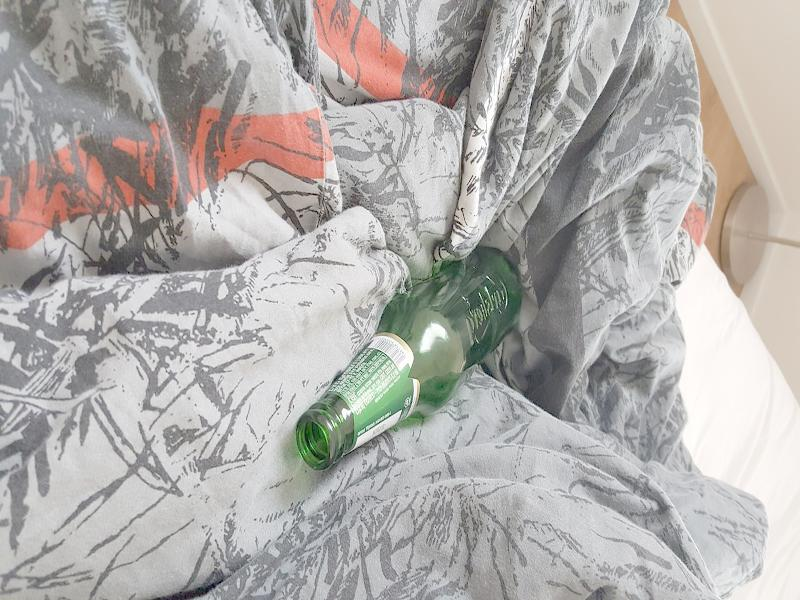Beer: (293, 247, 521, 466)
